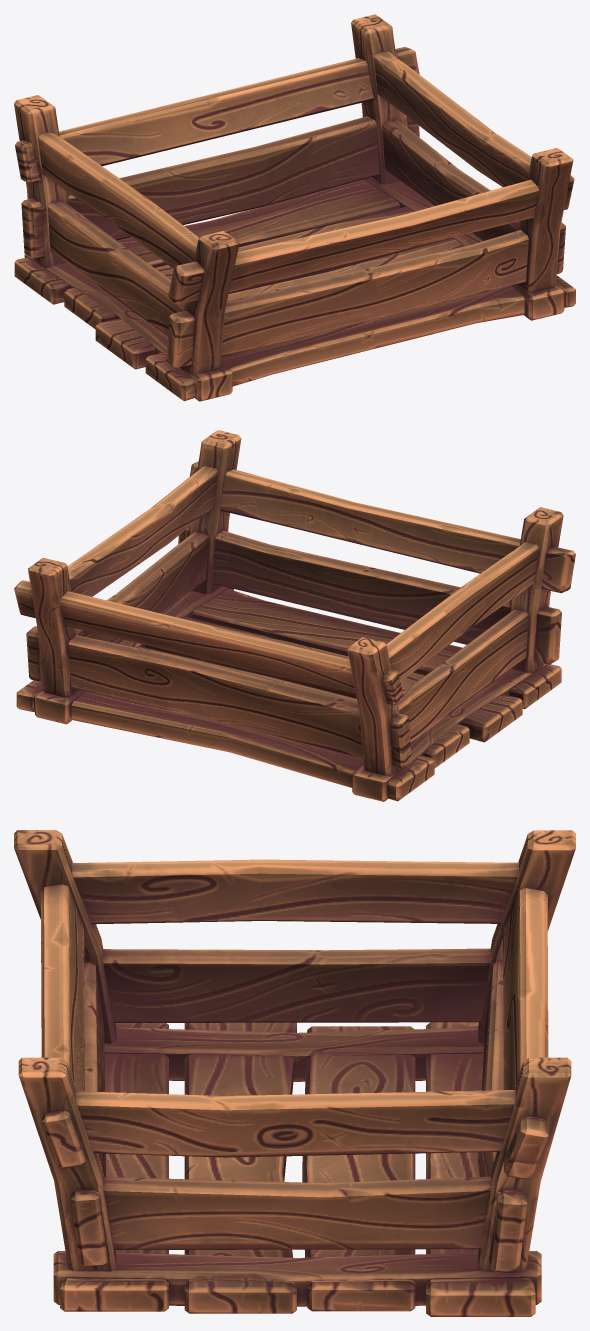
The model's file is kasa_marul.fbx.
3 renders of one model, top to bottom at view 1: azimuth 30°, elevation 25°; view 2: azimuth 150°, elevation 25°; view 3: azimuth 270°, elevation 25°, orthographic. The views are drawn at different scales.
Parts seen in each view (by area): view 1: kasa_marul; view 2: kasa_marul; view 3: kasa_marul.
Boxes of the visible parts, x1,y1,x2,y2 form: kasa_marul: (14,14,575,401); kasa_marul: (14,430,575,801); kasa_marul: (14,830,575,1316).
Bounding box in the file's own units: 107 × 41.38 × 91.54.
